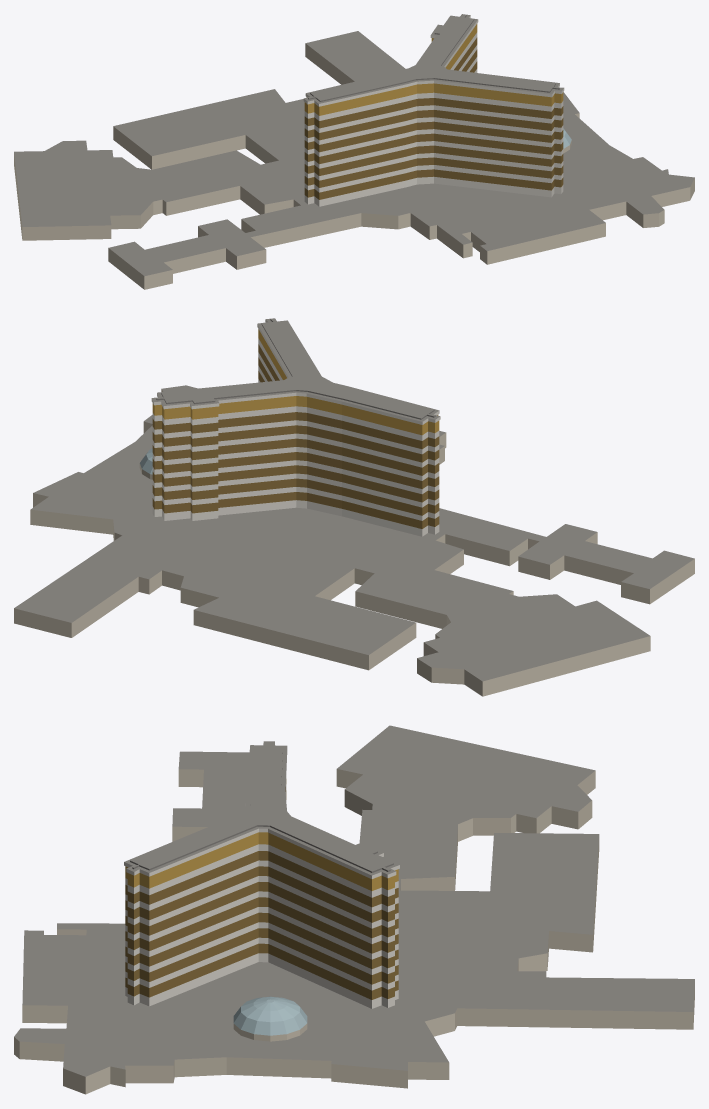
The model's file is hard_rock_las_vegas_w33957359.glb.
3 views of the same model, one above another, from view 1: azimuth 30°, elevation 25°; view 2: azimuth 150°, elevation 25°; view 3: azimuth 270°, elevation 25° (orthographic). The views are drawn at different scales.
Parts seen in each view (by area): view 1: Resort_w33957359; view 2: Resort_w33957359; view 3: Resort_w33957359.
Part boxes in pixels (left/top/right/bottom): Resort_w33957359: left=14, top=14, right=694, bottom=289; Resort_w33957359: left=14, top=318, right=694, bottom=696; Resort_w33957359: left=14, top=725, right=694, bottom=1094.
Bounding box in the file's own units: 512 × 104 × 419.
